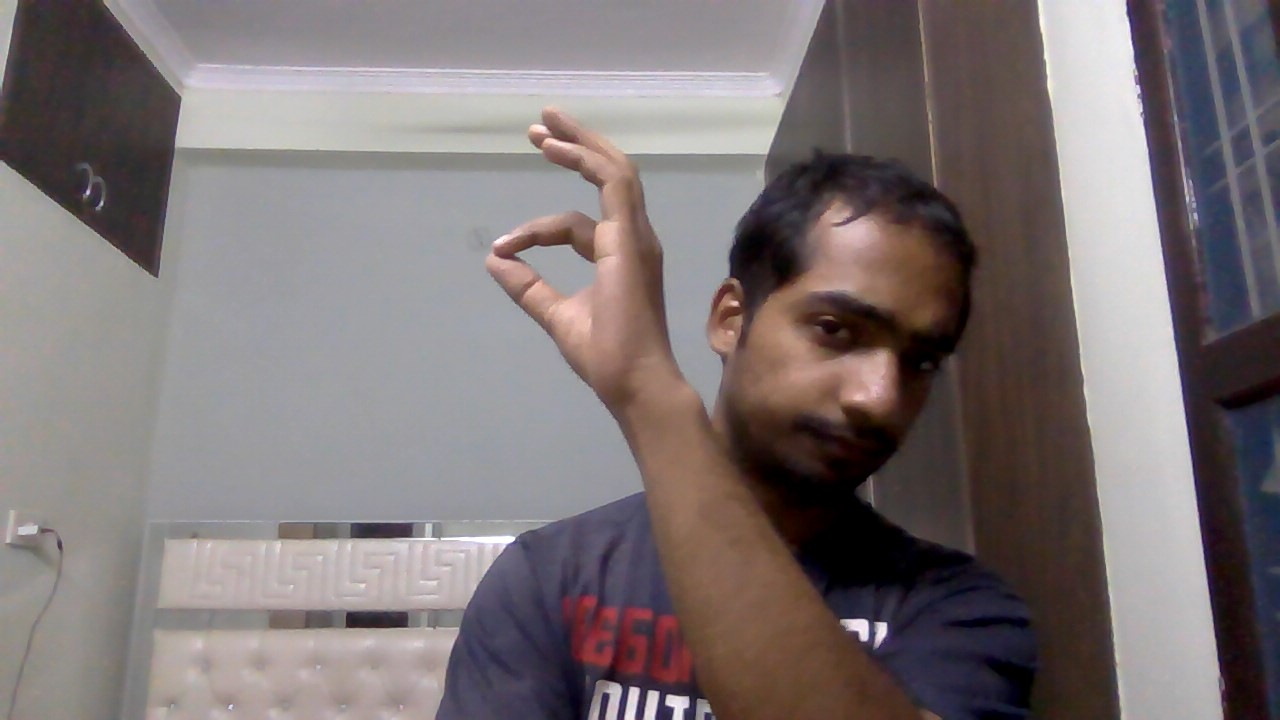Copy: (475, 100, 718, 406)
